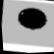correct: (13, 4, 51, 33)
